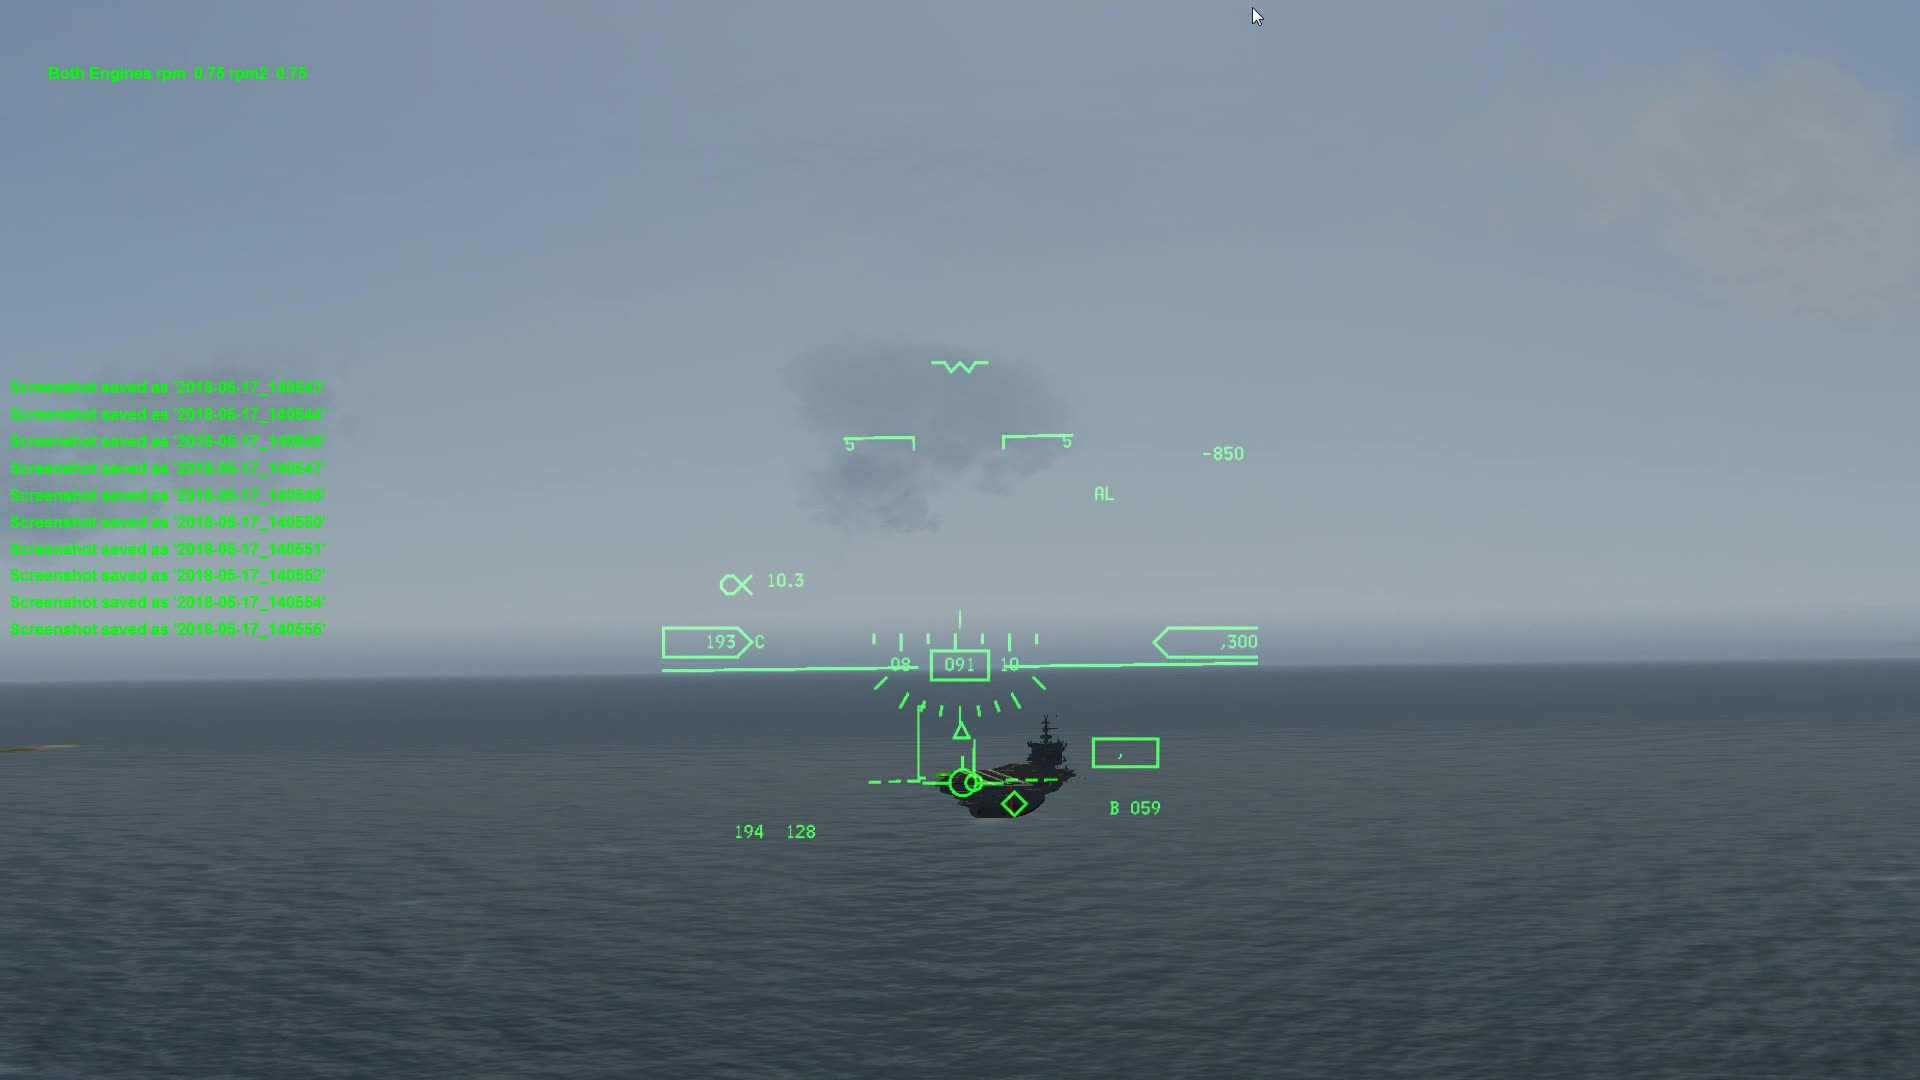speed vector: (927, 749, 1002, 800)
